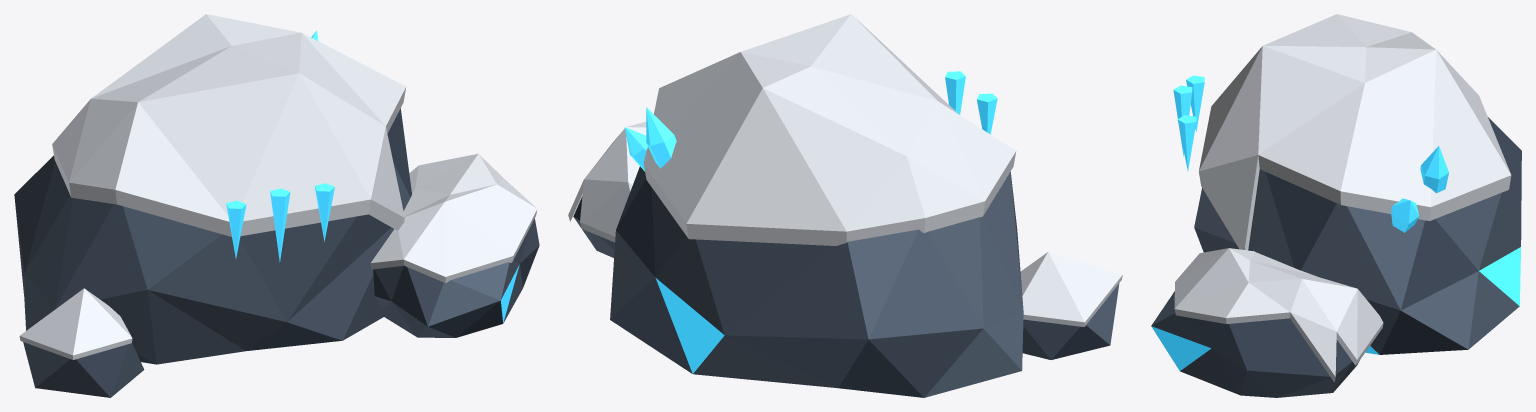
Rendered from ice_rock.glb.
3 renders of one model, left to right at view 1: azimuth 30°, elevation 25°; view 2: azimuth 150°, elevation 25°; view 3: azimuth 270°, elevation 25°, orthographic. The views are drawn at different scales.
Parts seen in each view (by area): view 1: ice_rock; view 2: ice_rock; view 3: ice_rock.
Boxes of the visible parts, x1,y1,x2,y2 form: ice_rock: (14,14,539,397); ice_rock: (568,14,1122,397); ice_rock: (1151,14,1521,397).
Size of the model in its own units: 2.66 by 1.38 by 1.78.
